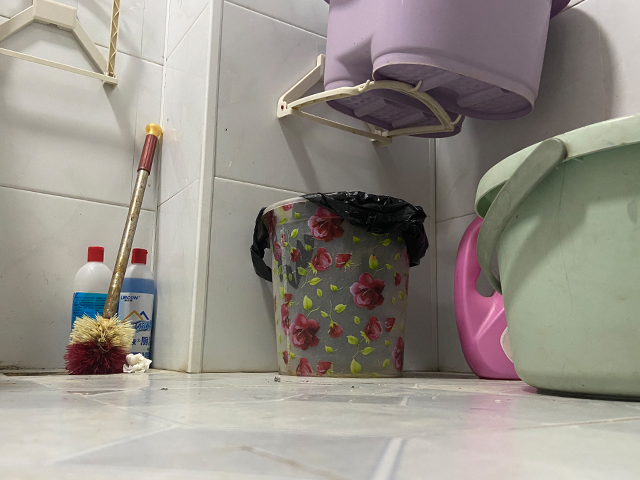trashcan: (259, 188, 428, 380)
